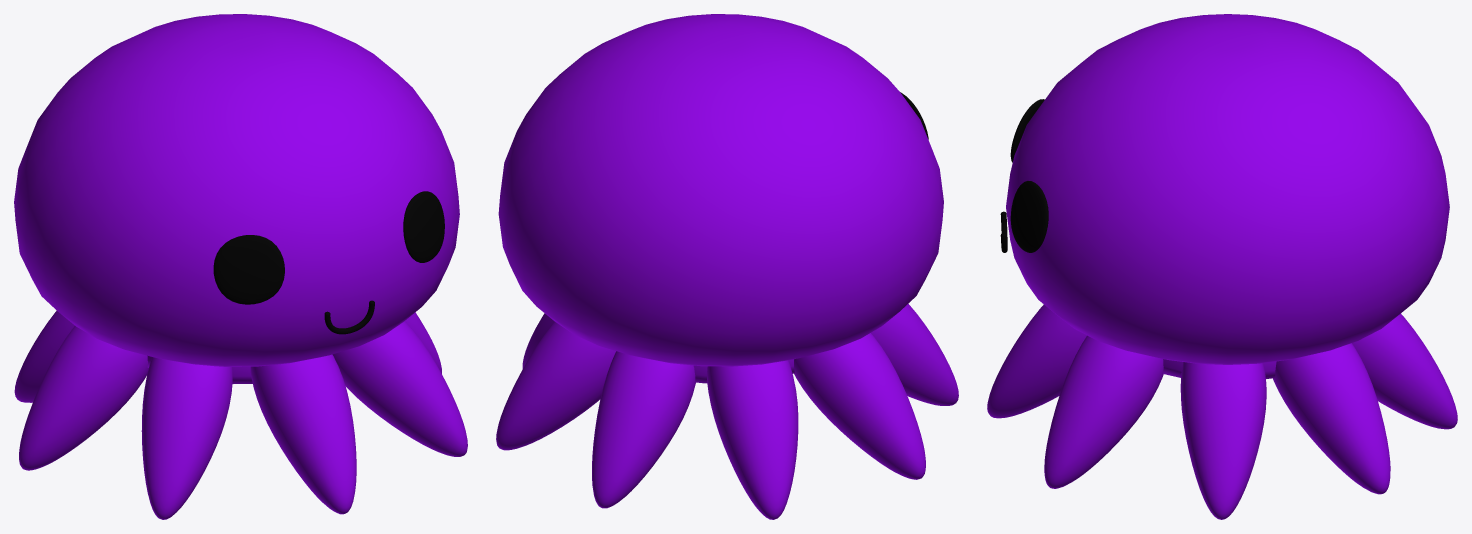
File: Octopus1.fbx
The picture shows the model from 3 angles, left to right: view 1: azimuth 30°, elevation 25°; view 2: azimuth 150°, elevation 25°; view 3: azimuth 270°, elevation 25°; orthographic projection.
Visible parts, largest first — view 1: head, Cube.001, Eyes, Cube; view 2: head, Cube, Cube.001; view 3: head, Cube, Cube.001, Eyes.
Part boxes in pixels (left/top/right/bottom): head: left=14, top=14, right=459, bottom=366; Cube.001: left=19, top=321, right=467, bottom=519; Eyes: left=213, top=191, right=444, bottom=304; Cube: left=14, top=310, right=441, bottom=402; head: left=498, top=14, right=943, bottom=366; Cube: left=496, top=313, right=798, bottom=519; Cube.001: left=794, top=303, right=958, bottom=479; head: left=1006, top=14, right=1449, bottom=364; Cube: left=1180, top=313, right=1457, bottom=519; Cube.001: left=987, top=304, right=1163, bottom=488; Eyes: left=1010, top=99, right=1048, bottom=252.
Size of the model in its own units: 212 by 191 by 212.
